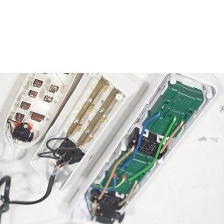three_eye_plug: (66, 67, 221, 223), (27, 68, 141, 199), (1, 56, 87, 151)
